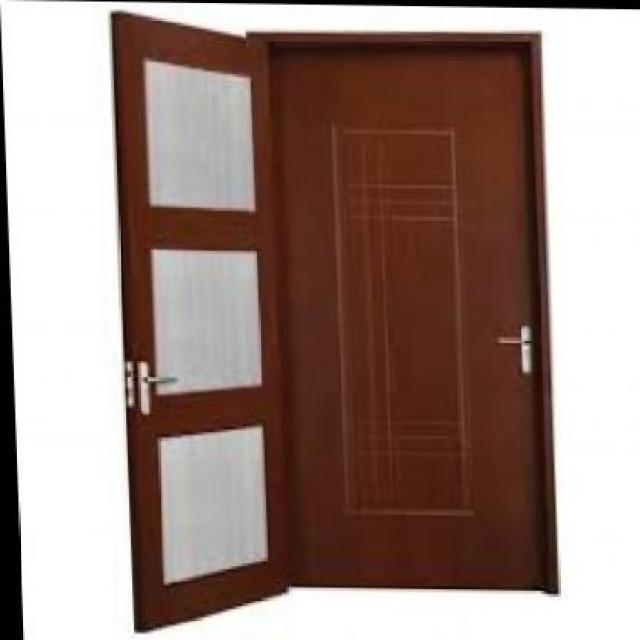door: (270, 30, 550, 593), (110, 2, 293, 640)
